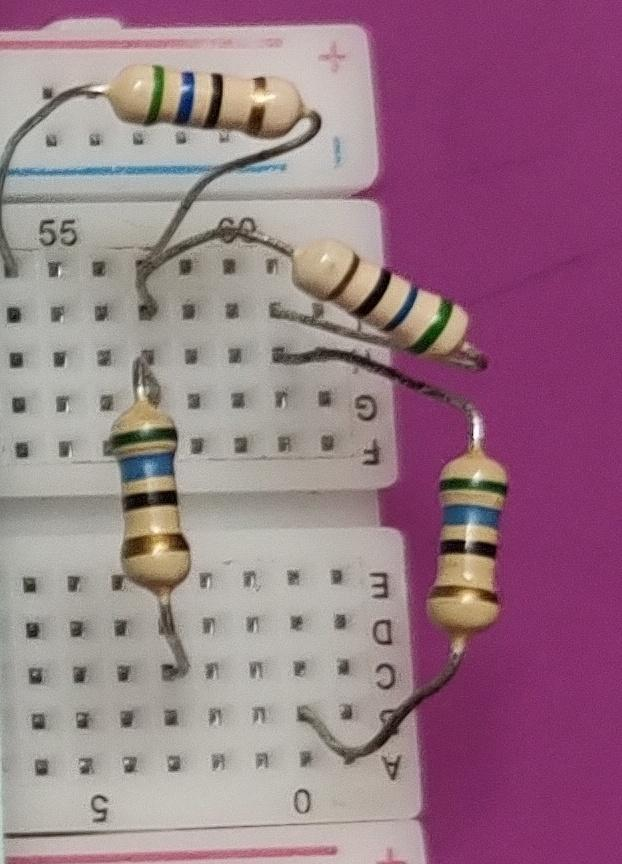resistor: (279, 225, 504, 374), (99, 394, 221, 617), (404, 442, 531, 649), (100, 45, 321, 161)
